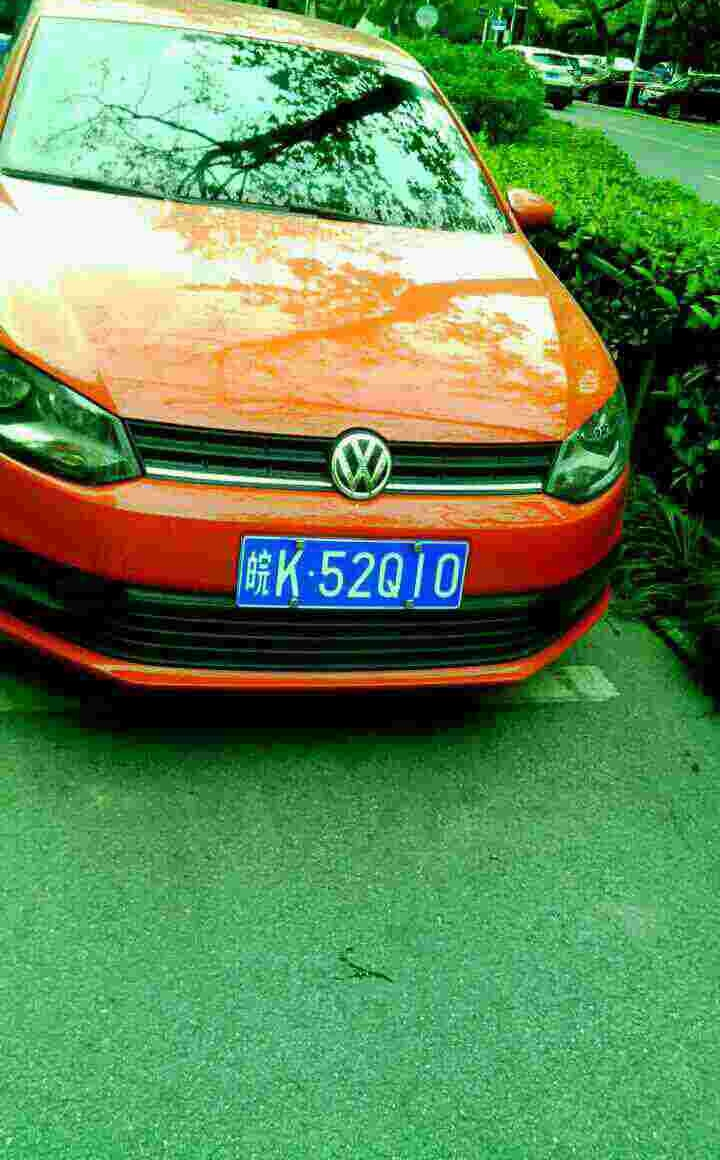plate: (240, 535, 476, 613)
